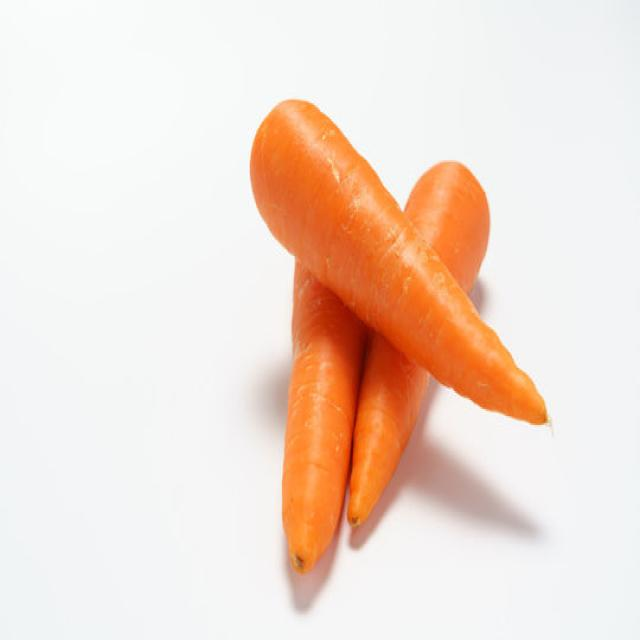Carrot: (249, 96, 550, 428), (280, 260, 366, 574), (346, 329, 429, 528)
